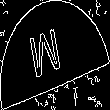M_S: (36, 24, 74, 86)
